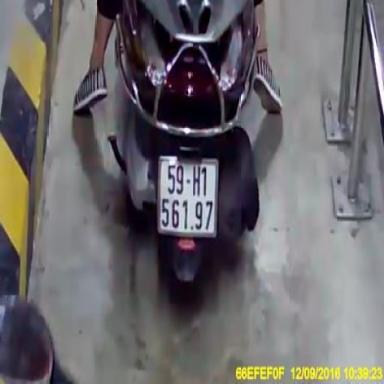License_Plate: (150, 148, 225, 255)
